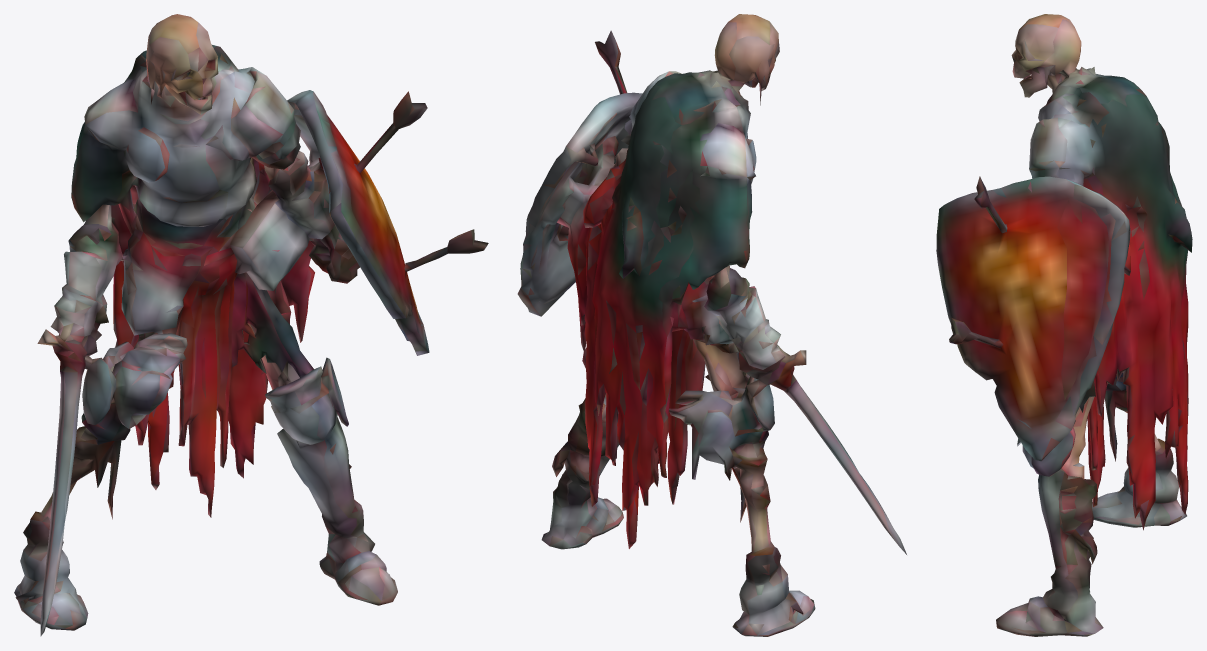
The model's file is Skeletal Guard (small)_final.glb.
The picture shows the model from 3 angles, left to right: view 1: azimuth 30°, elevation 25°; view 2: azimuth 150°, elevation 25°; view 3: azimuth 270°, elevation 25°; orthographic projection. The views are drawn at different scales.
Visible parts, largest first — view 1: Mesh1.0; view 2: Mesh1.0; view 3: Mesh1.0.
Part boxes in pixels (<box>): Mesh1.0: <box>14,14,488,636</box>; Mesh1.0: <box>517,14,906,636</box>; Mesh1.0: <box>936,14,1192,636</box>.
Size of the model in its own units: 1.36 by 1.91 by 0.8327.
Materials: 1 (1 with a texture image).
